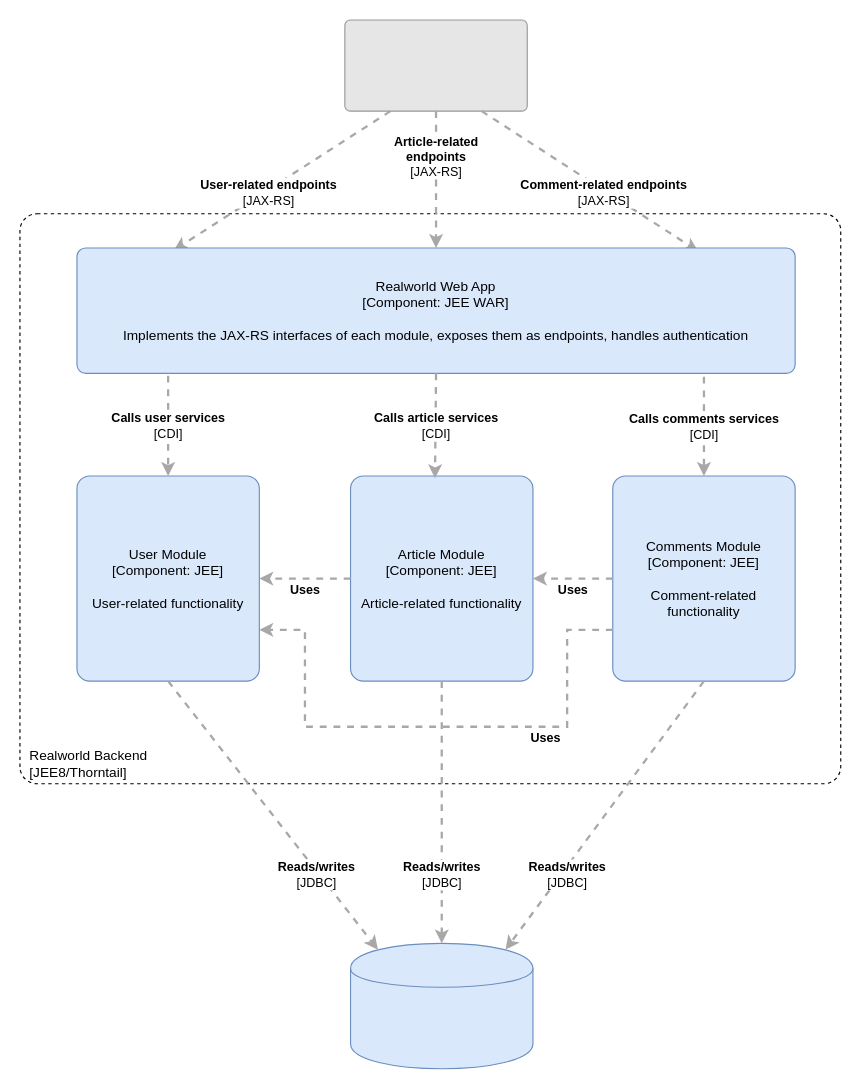
Some shapes in this 861 by 1089 pixel diagram are drawn without their labels. Here are the shapes that lost their labels. From the top down, the centre of each, then its label:
point (435, 65): Front End [Container: any ] SPA, not provided by this solution
point (441, 1005): Database [Container: any]
